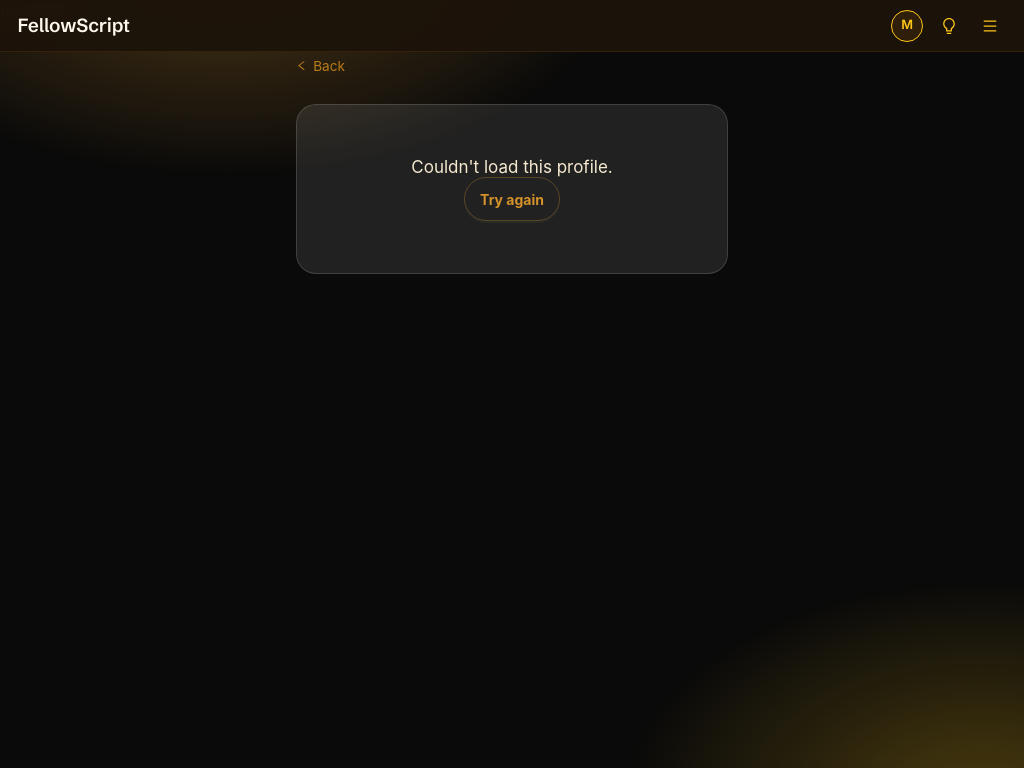
Scenario: Profile page load failure handling › first-load failure with no cache: error screen with Try again, nothing fabricated
The width and height of the screenshot is (1024, 768).
Expected: the text "Couldn't load this profile." is shown, [411,157,613,177]
Expected: the text "Ann" is not shown
Click the button "Try again" at (512, 199), box [464,177,560,221]
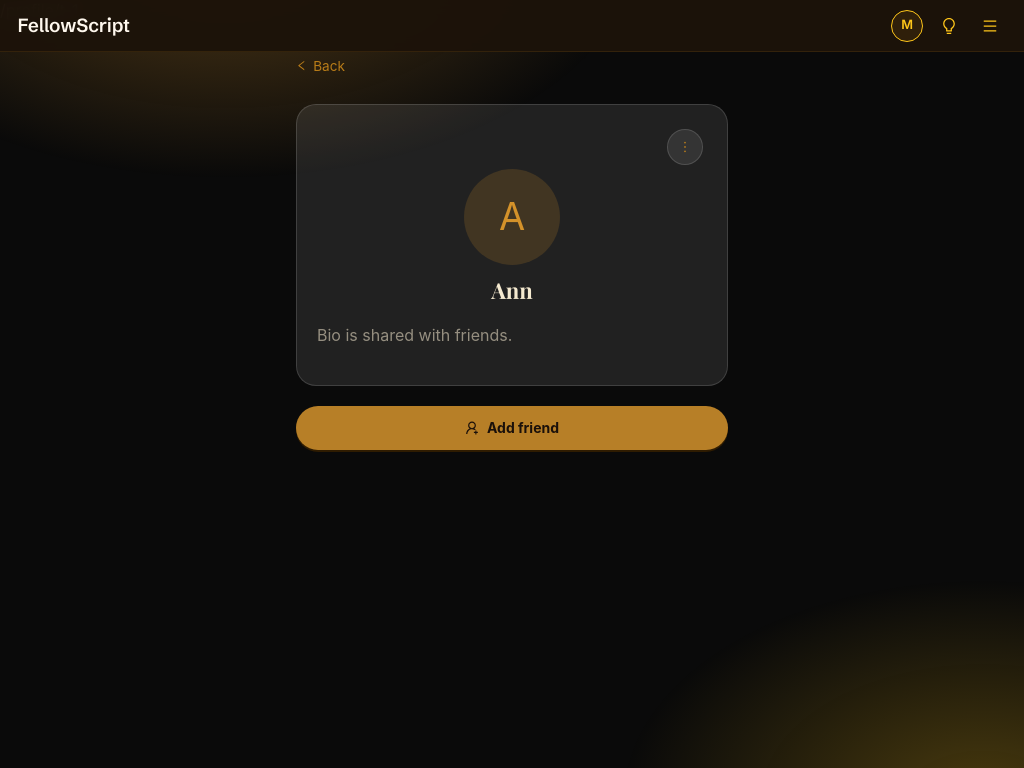
Now the heading "Ann" is shown, box [491,275,533,305]
